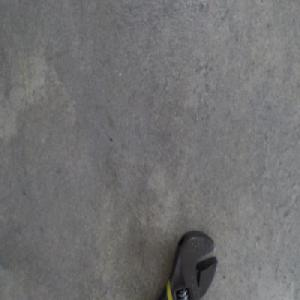AdjustableWrench: (158, 231, 219, 299)
